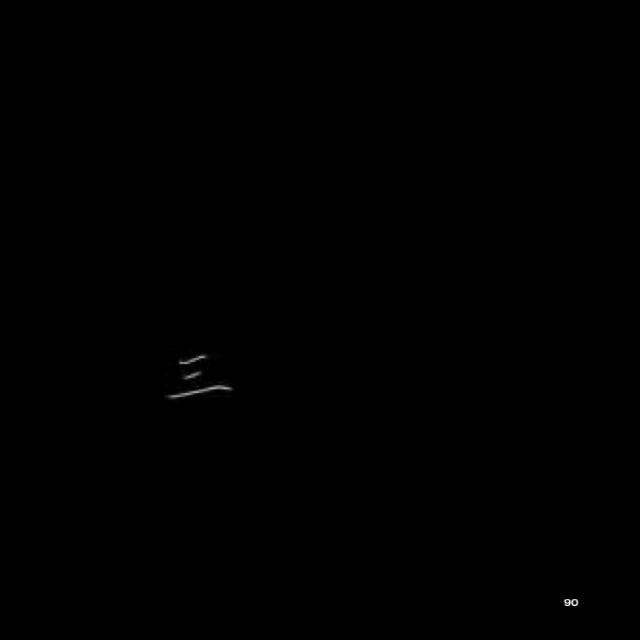3 -three-: (151, 338, 257, 419)
